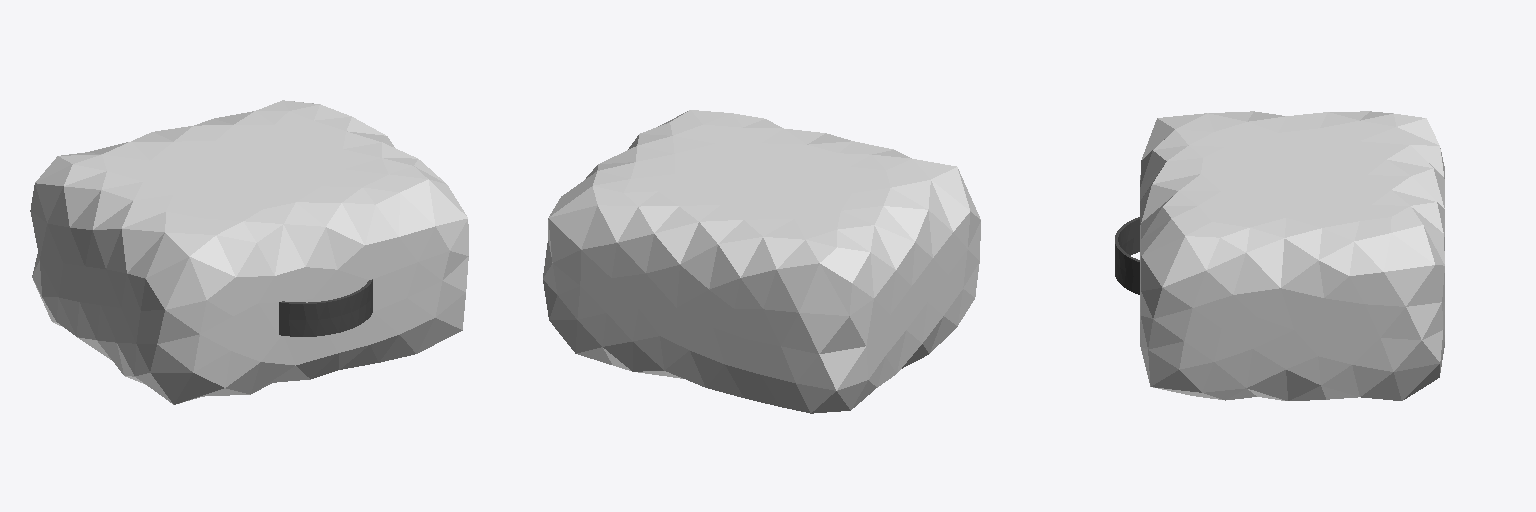
3 renders of one model, left to right at view 1: azimuth 30°, elevation 25°; view 2: azimuth 150°, elevation 25°; view 3: azimuth 270°, elevation 25°, orthographic.
Visible parts, largest first — view 1: top_handle_bag; view 2: top_handle_bag; view 3: top_handle_bag.
Boxes of the visible parts, <box> form: top_handle_bag: <box>30,100,468,404</box>; top_handle_bag: <box>543,110,980,413</box>; top_handle_bag: <box>1115,111,1444,400</box>.
Bounding box in the file's own units: 0.5 × 0.25 × 0.455.
Materials: 1 (1 with a texture image).